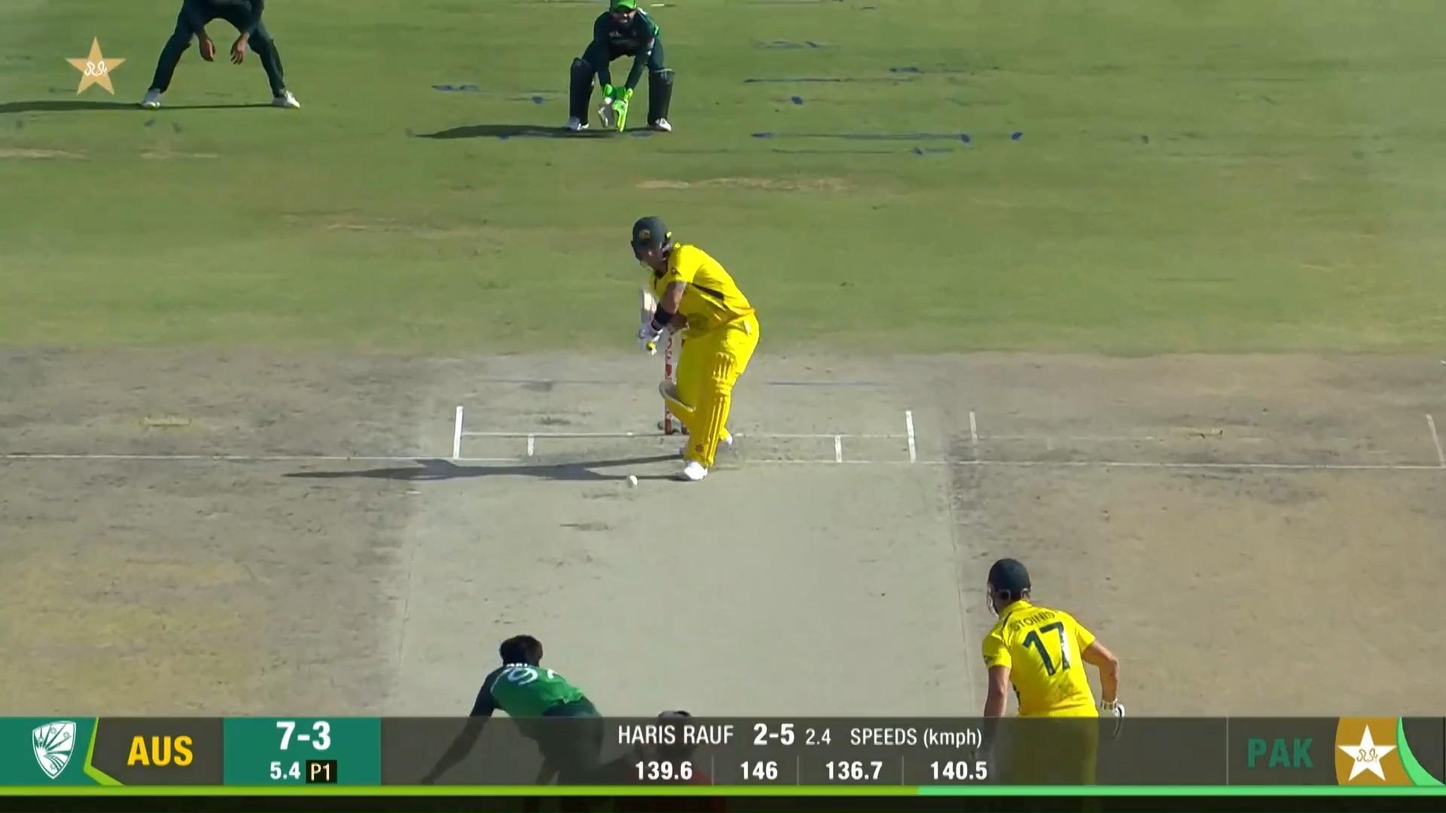BM 1: (629, 213, 761, 484)
BO: (475, 636, 691, 716)
